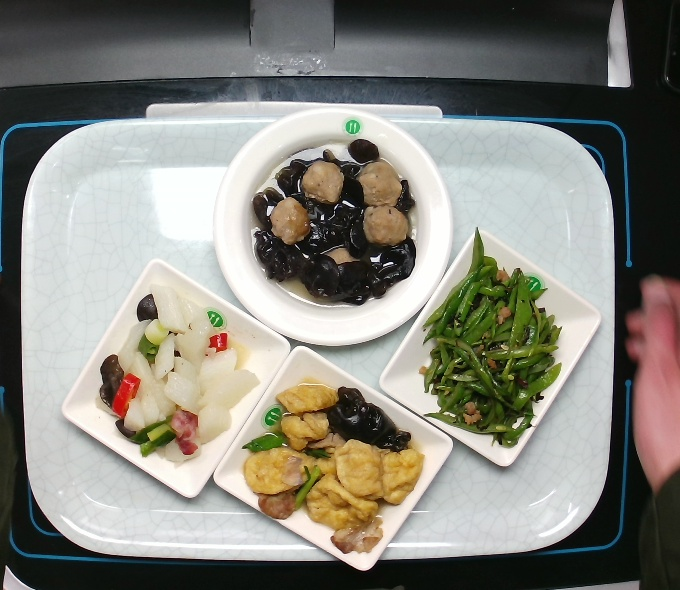wcq-MuErWanZi: (248, 136, 419, 307)
wcq-ShanYao: (95, 290, 263, 467)
wcq-SiJiDouChaoRou: (423, 262, 563, 445)
wcq-YouPaoRouPian: (239, 383, 428, 556)
